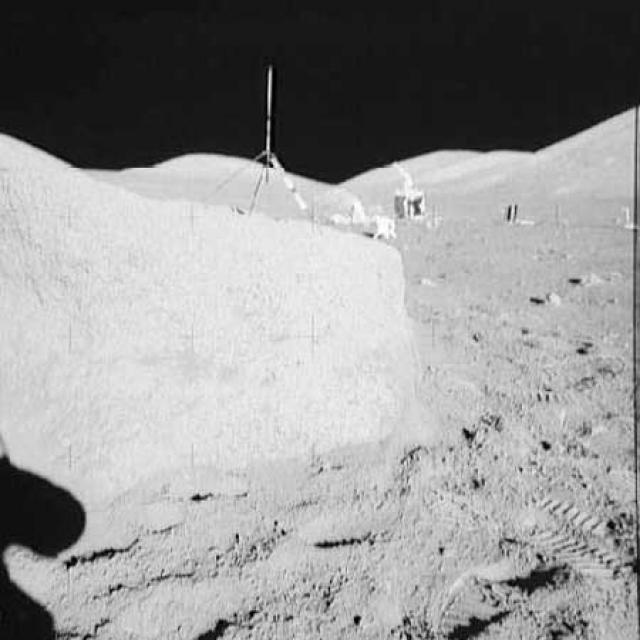artifact: (206, 58, 313, 214), (391, 156, 446, 228), (328, 185, 395, 240), (494, 199, 542, 230), (613, 198, 639, 233)
rock: (0, 132, 409, 488), (566, 264, 614, 289), (541, 288, 562, 306)
